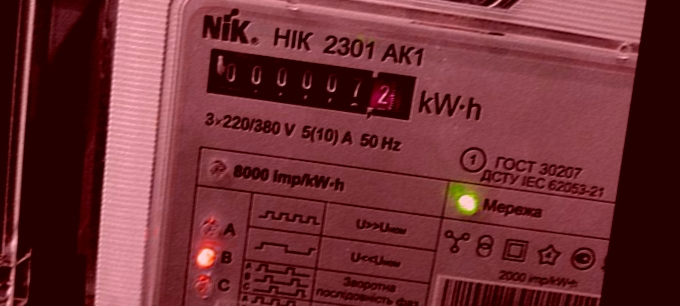0: (298, 68, 316, 93), (222, 59, 239, 85), (273, 65, 290, 90), (248, 63, 264, 87), (323, 71, 339, 95)
2: (375, 83, 391, 107)
7: (349, 75, 364, 100)
screen: (193, 34, 427, 134)
